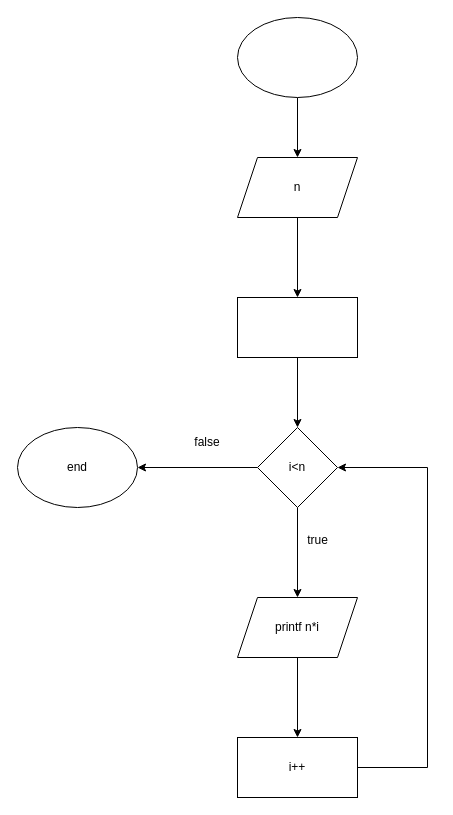
Some shapes in this 453 by 815 pixel diagram are drawn without their labels. Each missing label, with the centre of its shape:
"i=1;" belongs at point (297, 327).
"start" belongs at point (297, 57).
